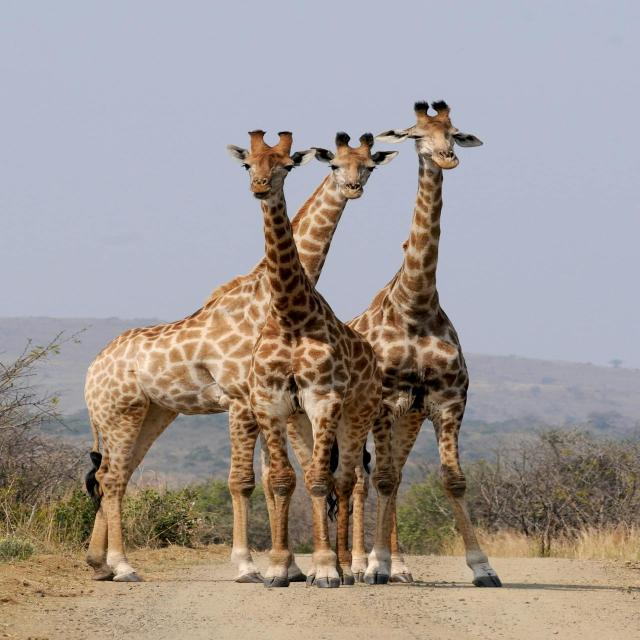Giraffe: (83, 130, 402, 589), (332, 100, 520, 588), (224, 129, 398, 592)
